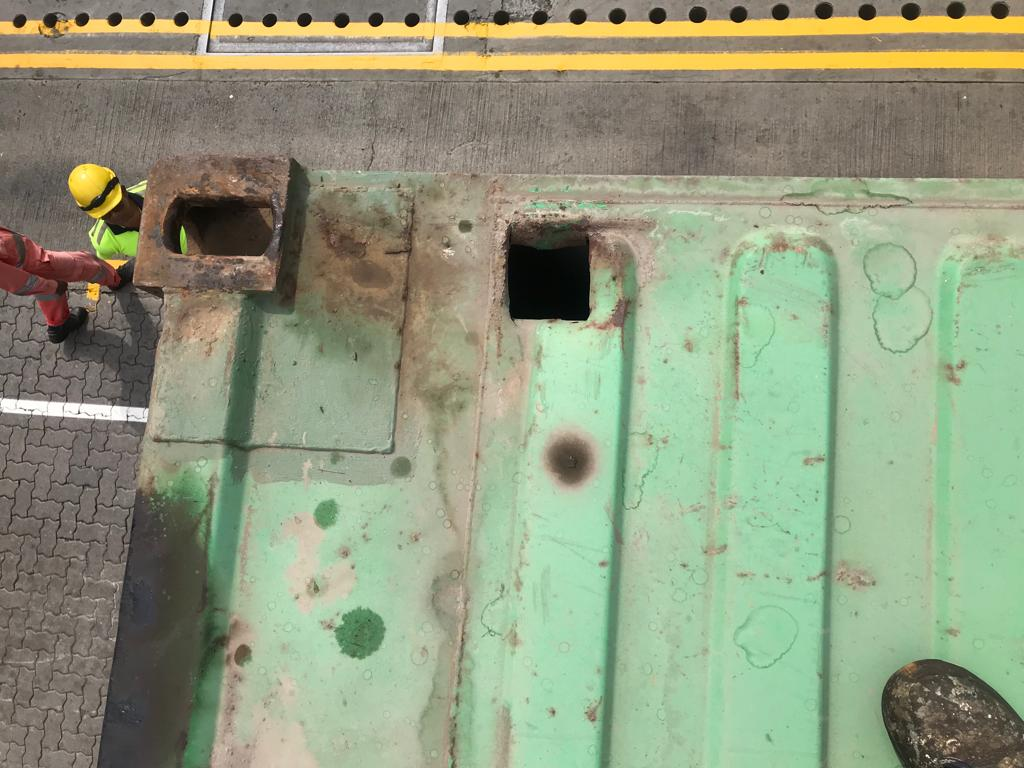hole: (465, 188, 656, 388)
